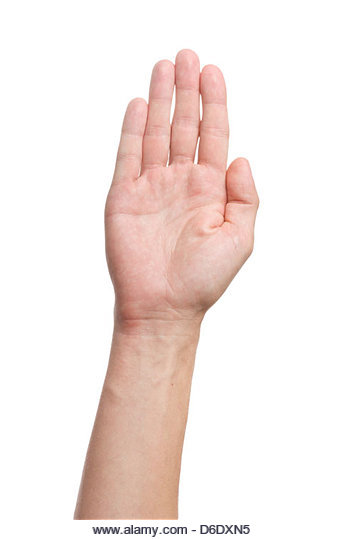hand: (60, 33, 281, 369)
